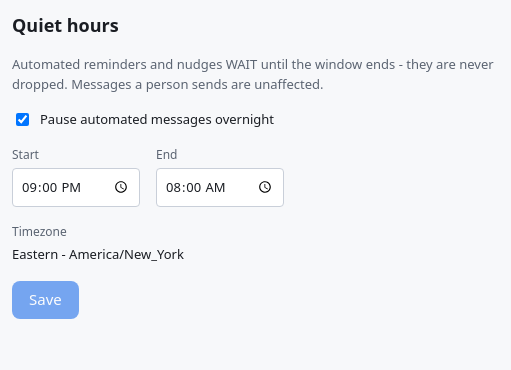
Test: QuietHoursSection - server errors › surfaces a quiet_hours_zero_length 400 as readable inline copy
The image size is (511, 370).
Replace the text in the time field labelled "Start" with "08:00" at (76, 187), box [12,168,140,207]
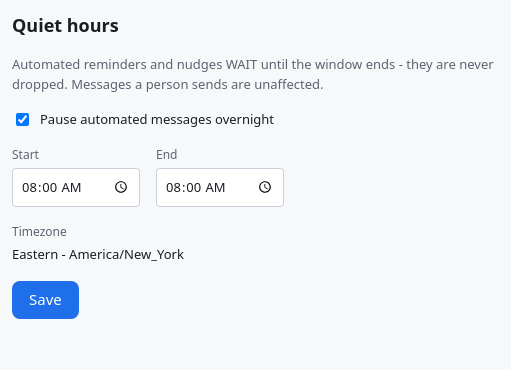
Click the button "Save" at (45, 300), box [12,280,79,318]
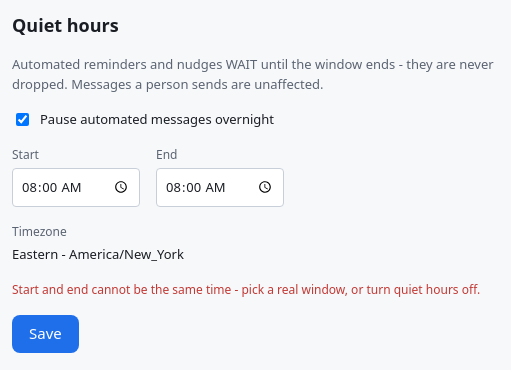
Expected: the message does not show "quiet_hours_zero_length", [12,280,480,298]
Expected: the button "Save" is enabled, [12,314,79,352]
Expected: the message shows "same time", [12,280,480,298]
